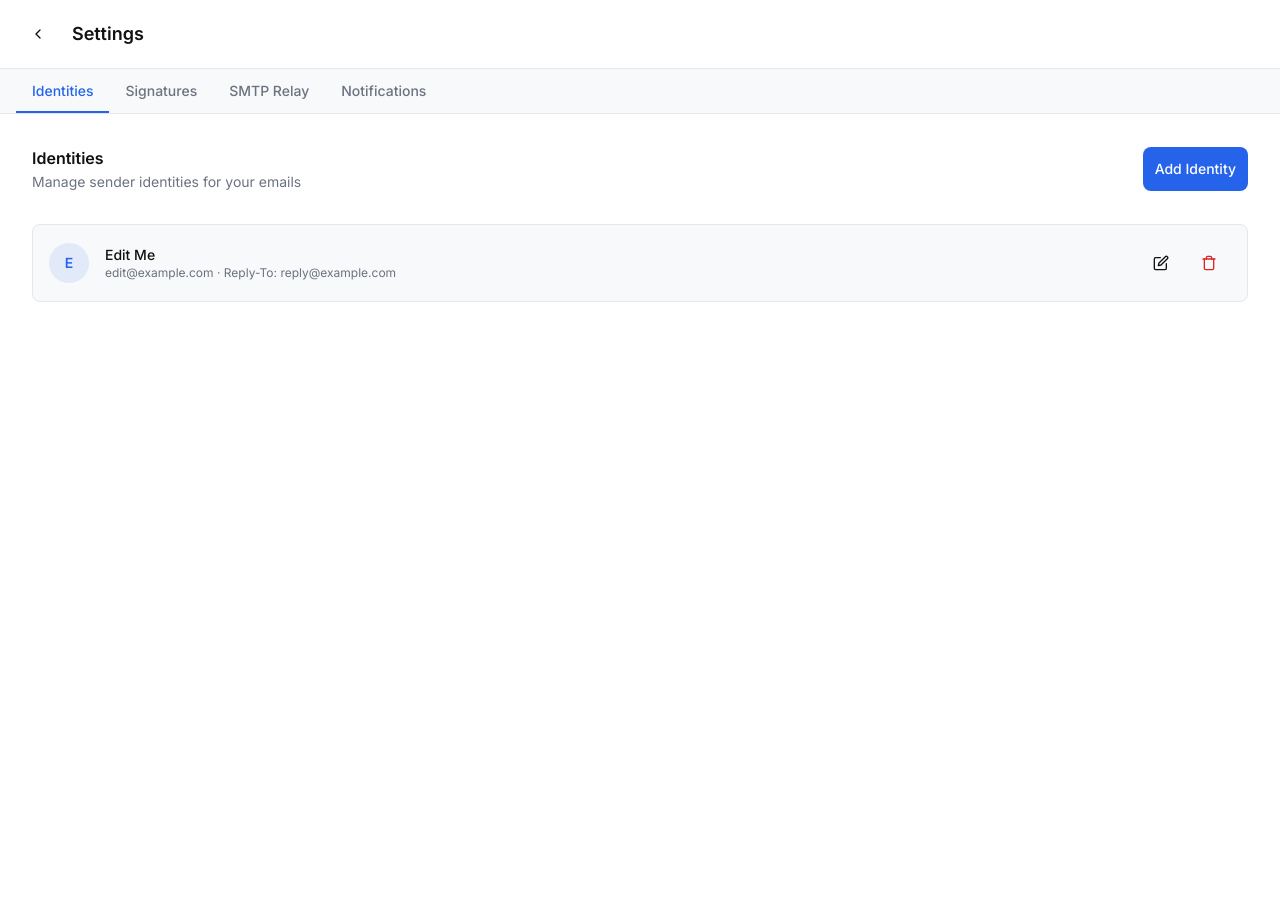
Test: Settings › identities tab › edit button opens edit dialog with pre-filled fields
Expected: the text "Edit Me" is shown, [105, 245, 155, 265]
Click the button named "Edit Edit Me".
click(1161, 263)  # box [1139, 241, 1183, 285]
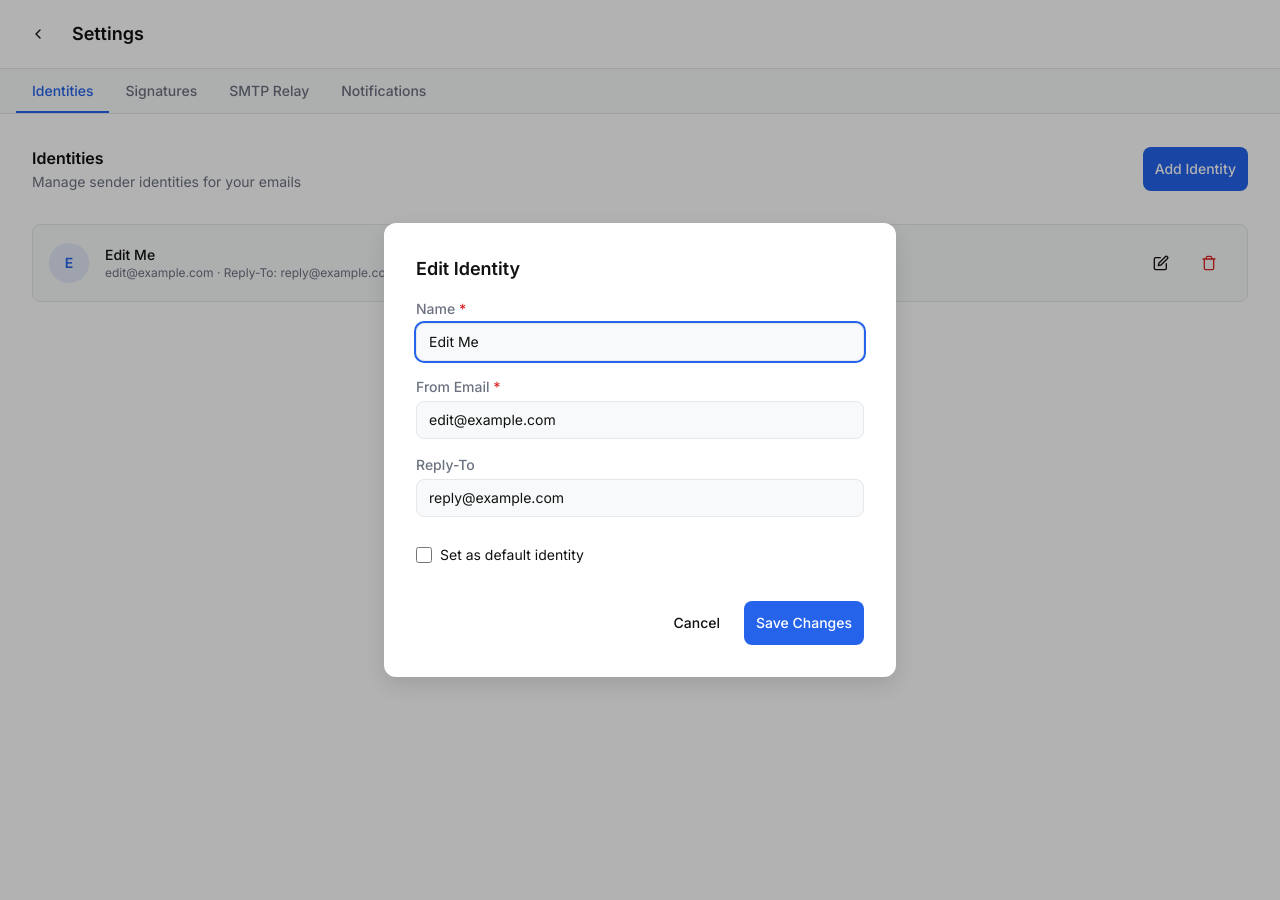
Expected: the heading "Edit Identity" is shown, [416, 258, 520, 279]
Expected: the field labelled "Name *" holds "Edit Me", [416, 323, 864, 361]
Expected: the field labelled "From Email *" holds "edit@example.com", [416, 401, 864, 439]
